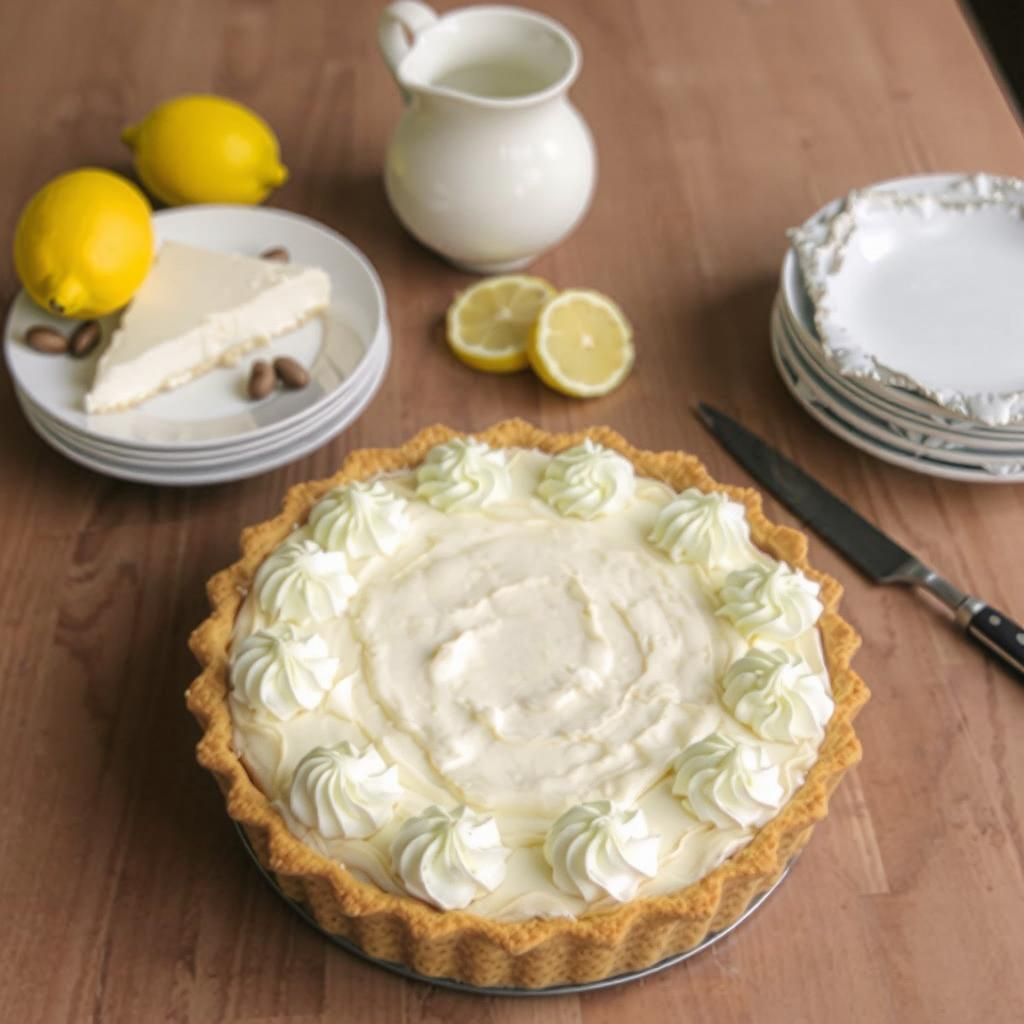cake: (176, 419, 887, 996)
